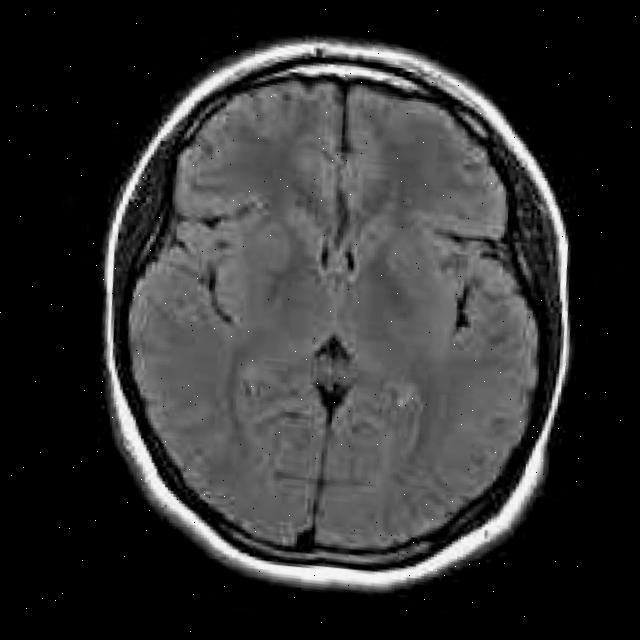NoTumor: (52, 10, 621, 619)
